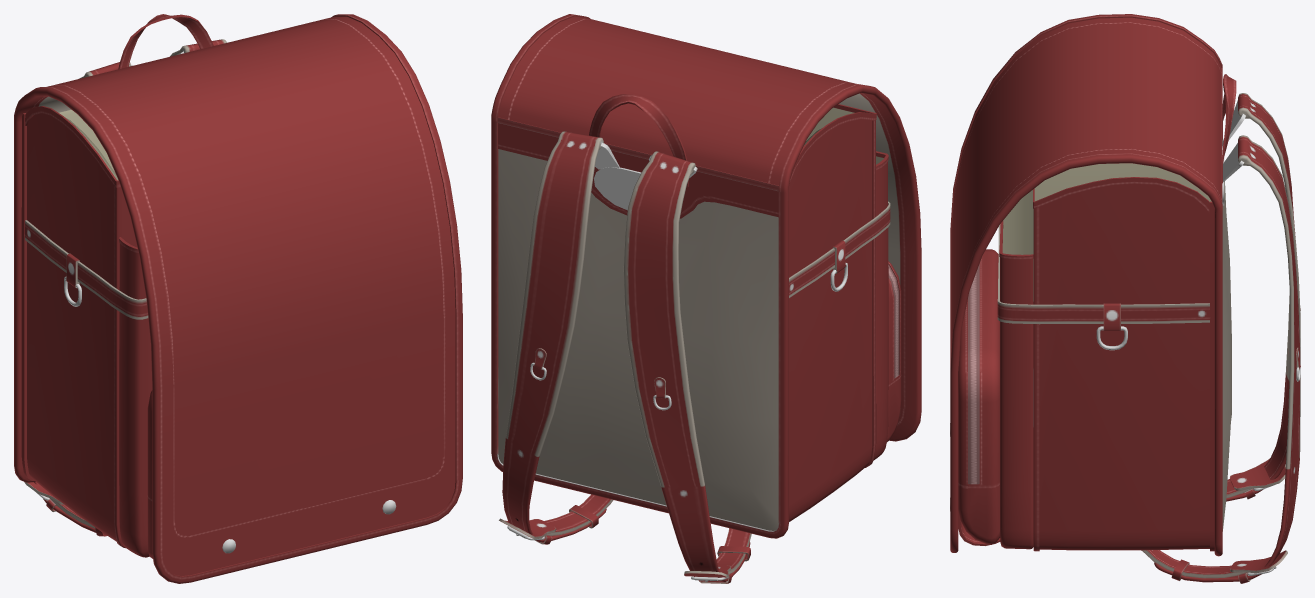
The picture shows the model from 3 angles, left to right: view 1: azimuth 30°, elevation 25°; view 2: azimuth 150°, elevation 25°; view 3: azimuth 270°, elevation 25°; orthographic projection. The views are drawn at different scales.
Parts seen in each view (by area): view 1: r_02_low_0, r_01_low_7, r_03_low_1, r_05_low_3, r_04_low_2, r_09_low_8; view 2: r_02_low_0, r_04_low_2, r_01_low_7, r_03_low_1, r_05_low_3, r_06_low_4; view 3: r_01_low_7, r_02_low_0, r_04_low_2, r_03_low_1, r_09_low_8, r_05_low_3, r_06_low_4.
Boxes of the visible parts, <box> form: r_02_low_0: <box>14,14,462,583</box>; r_01_low_7: <box>21,106,152,558</box>; r_03_low_1: <box>25,220,148,319</box>; r_05_low_3: <box>24,14,213,536</box>; r_04_low_2: <box>34,39,226,533</box>; r_09_low_8: <box>59,109,118,180</box>; r_02_low_0: <box>491,14,921,538</box>; r_04_low_2: <box>502,131,751,582</box>; r_01_low_7: <box>789,104,901,521</box>; r_03_low_1: <box>498,123,890,297</box>; r_05_low_3: <box>499,94,845,583</box>; r_06_low_4: <box>507,143,847,581</box>; r_01_low_7: <box>958,177,1214,551</box>; r_02_low_0: <box>950,14,1231,556</box>; r_04_low_2: <box>1141,93,1300,582</box>; r_03_low_1: <box>997,224,1209,324</box>; r_09_low_8: <box>1002,163,1211,301</box>; r_05_low_3: <box>1103,74,1300,583</box>; r_06_low_4: <box>1096,100,1300,575</box>.
Size of the model in its own units: 0.265 by 0.3957 by 0.2729.
1 material, 1 textured.
